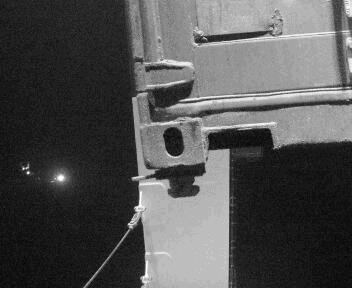twist_lock_1: (147, 158, 210, 208)
